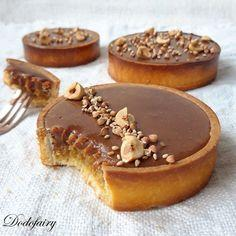Tart: (31, 82, 225, 212), (107, 27, 224, 87), (21, 22, 102, 70), (3, 56, 62, 108)
